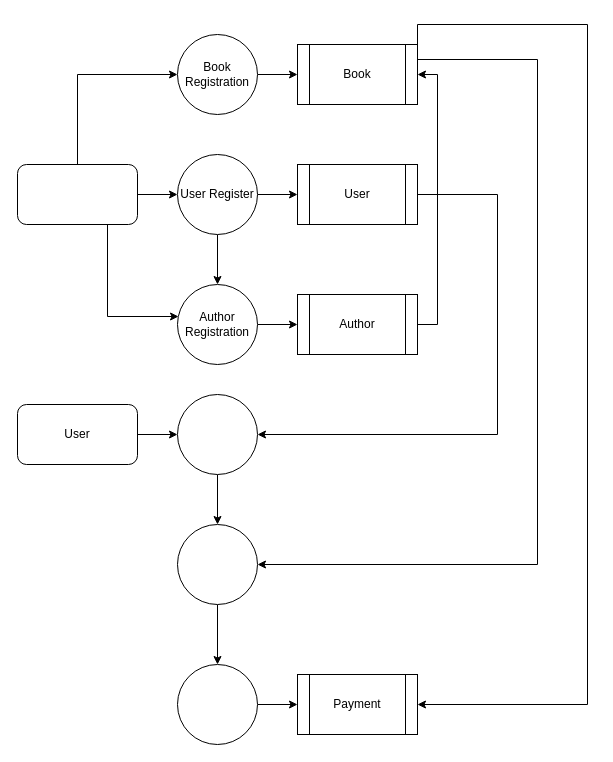
Some shapes in this 613 by 762 pixel diagram are drawn without their labels. The shapes that lost their labels are listed below. From the top down, each one's centre as x and y in pixels, then its label:
(77,194): Admin
(217,434): User Login
(217,564): Book Details
(217,704): Buy Book
